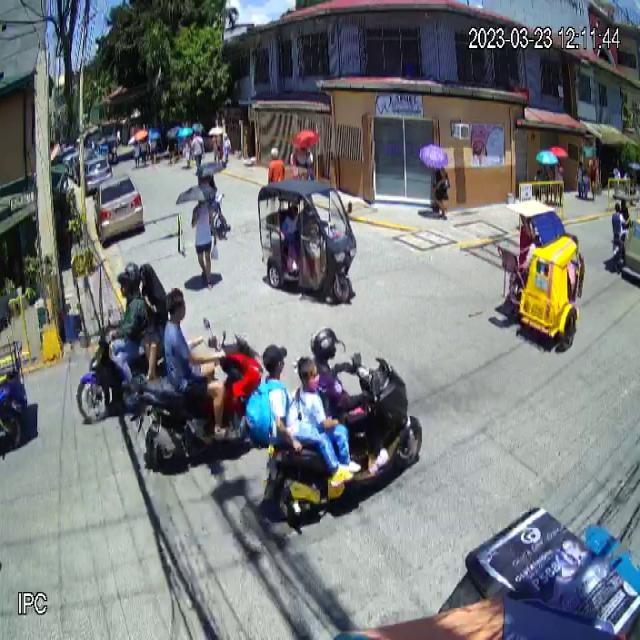Motorcycle: (136, 316, 264, 476)
Tricycle: (496, 198, 586, 354)
